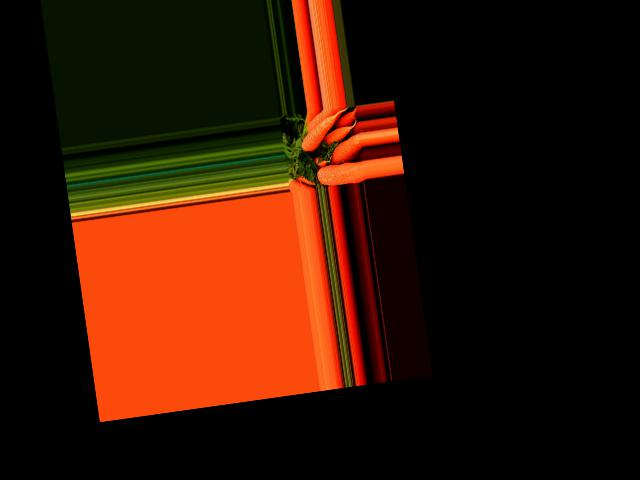carrot: (313, 157, 366, 188)
